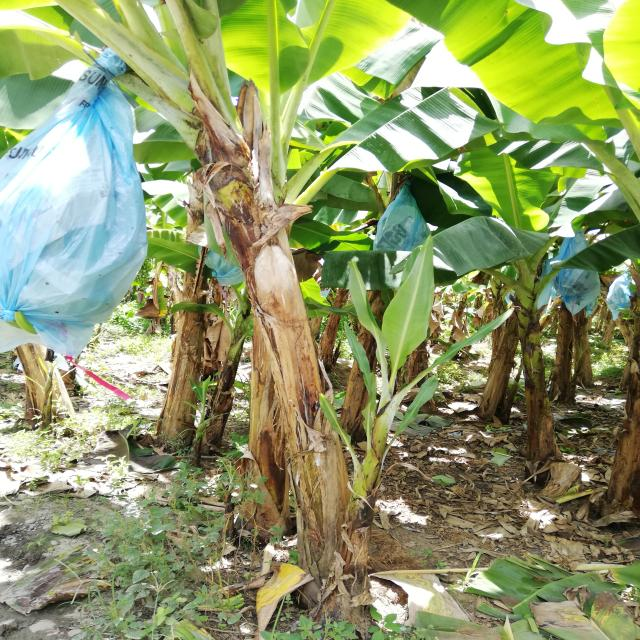Banana-plant: (163, 68, 364, 624), (118, 110, 307, 441), (487, 247, 577, 478)
